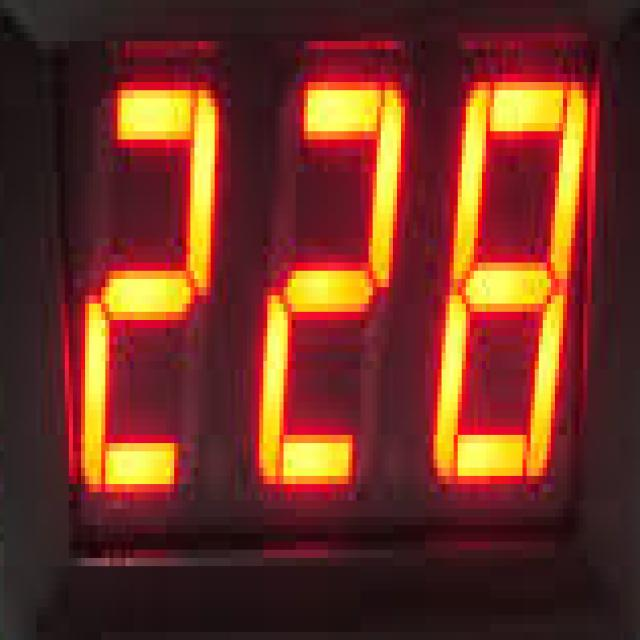2: (69, 43, 252, 536), (258, 50, 423, 517)
8: (442, 41, 591, 528)
screen: (52, 52, 595, 540)
